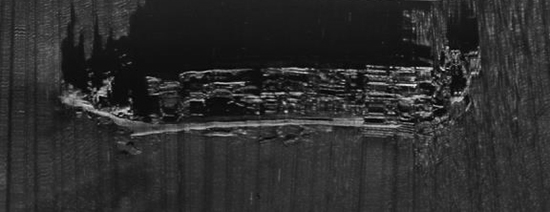ship: (62, 63, 468, 147)
